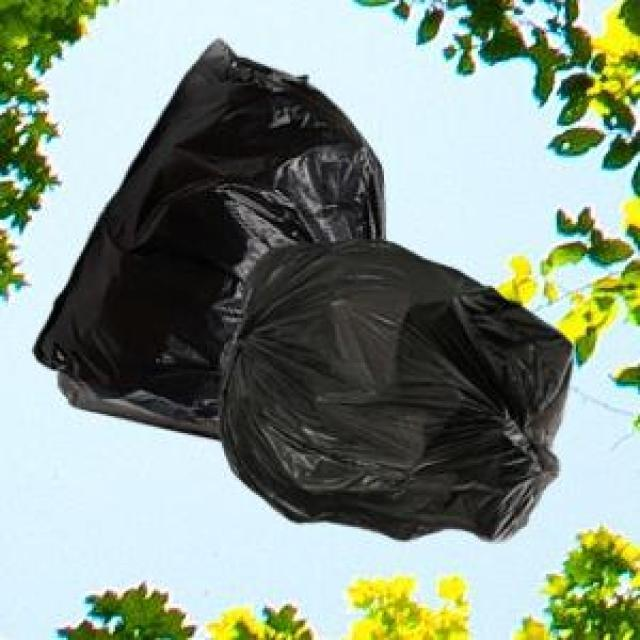waste: (36, 41, 570, 539)
